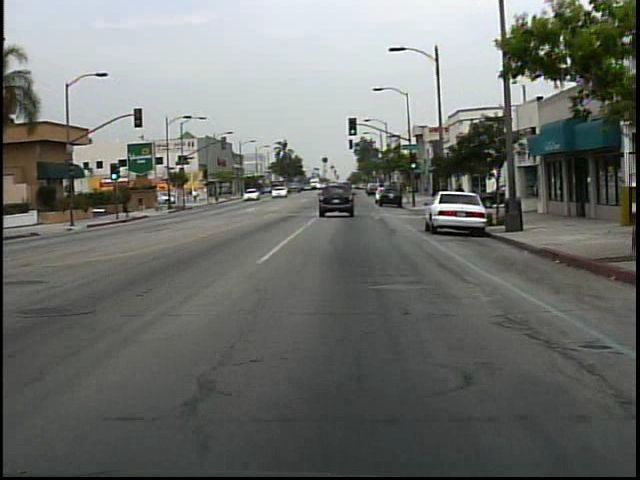person: (449, 179, 470, 217), (133, 191, 152, 220), (192, 188, 201, 206)
